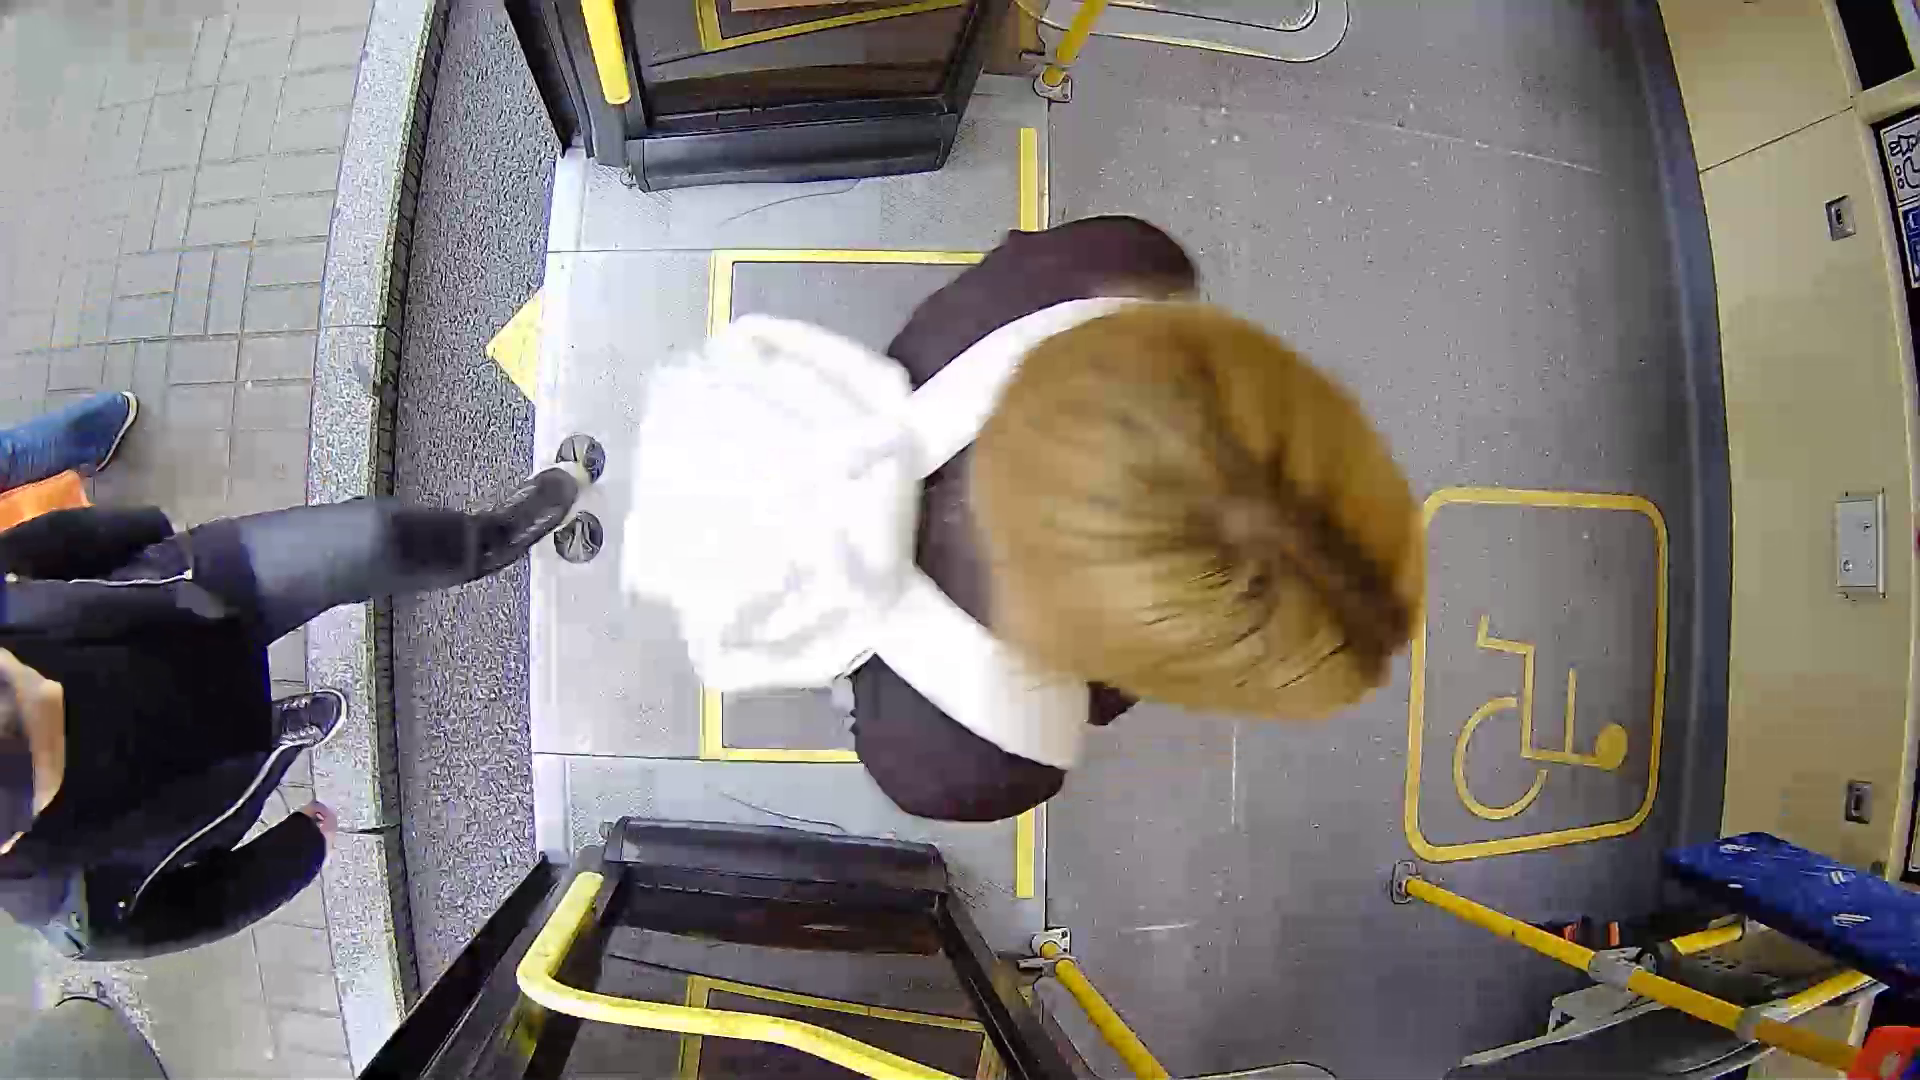person: (523, 205, 1521, 863)
